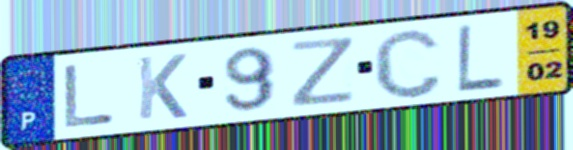9: (221, 43, 279, 114)
C: (370, 25, 446, 101)
K: (134, 51, 190, 123)
L: (61, 62, 118, 131), (455, 21, 507, 94)
Z: (288, 34, 359, 110)
